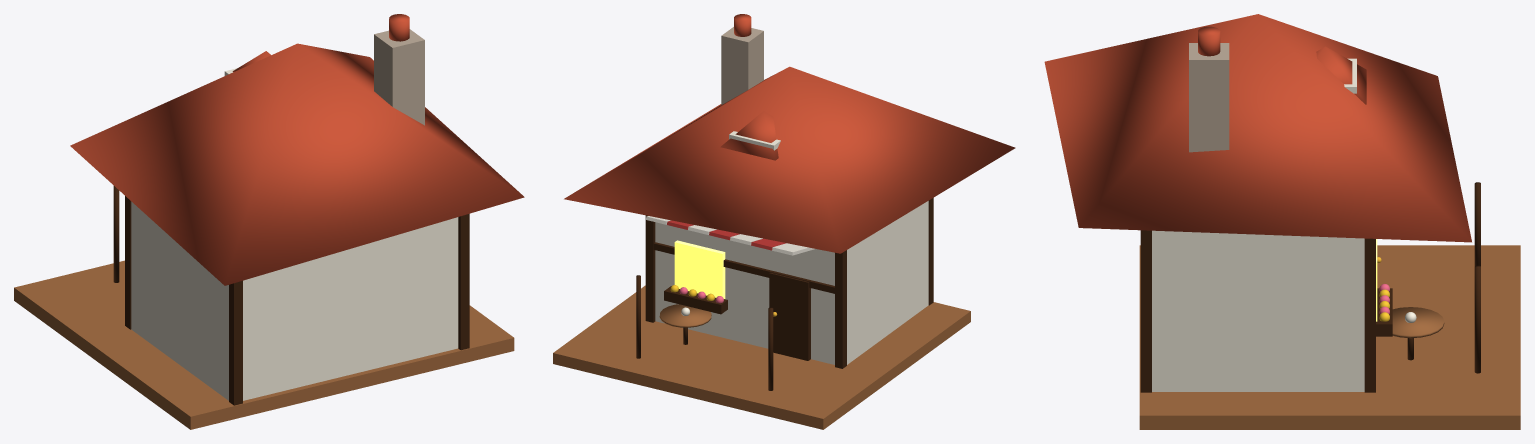
Rendered from cafe.glb.
The picture shows the model from 3 angles, left to right: view 1: azimuth 30°, elevation 25°; view 2: azimuth 150°, elevation 25°; view 3: azimuth 270°, elevation 25°; orthographic projection. The views are drawn at different scales.
Parts seen in each view (by area): view 1: CafeRoof, CafeBody, CafeDeck, ChimneyBody, CornerBeam_B_-3.15, CornerBeam_B_3.15, CornerBeam_-3.15, AwningPost_-2.2, ChimneyPot; view 2: CafeRoof, CafeDeck, CafeBody, FrontDoor, ChimneyBody, CafeWindow, DormerRoof, CornerBeam_-3.15, CornerBeam_3.15, BeamMidFront, BistroTableTop, FlowerBox (+2 smaller); view 3: CafeRoof, CafeBody, CafeDeck, ChimneyBody, CornerBeam_B_3.15, CornerBeam_3.15, BistroTableTop, DormerRoof, AwningPost_2.2, ChimneyPot, AwningPost_-2.2, FlowerBox.
Part boxes in pixels (bbox=[...]): CafeRoof: bbox=[70, 43, 524, 285]; CafeBody: bbox=[131, 201, 458, 400]; CafeDeck: bbox=[14, 260, 514, 429]; ChimneyBody: bbox=[374, 29, 424, 125]; CornerBeam_B_-3.15: bbox=[229, 280, 242, 405]; CornerBeam_B_3.15: bbox=[458, 213, 469, 350]; CornerBeam_-3.15: bbox=[125, 196, 131, 329]; AwningPost_-2.2: bbox=[113, 186, 119, 282]; ChimneyPot: bbox=[389, 14, 409, 41]; CafeRoof: bbox=[564, 66, 1015, 253]; CafeDeck: bbox=[553, 285, 970, 429]; CafeBody: bbox=[655, 201, 928, 364]; FrontDoor: bbox=[769, 272, 810, 360]; ChimneyBody: bbox=[721, 27, 763, 104]; CafeWindow: bbox=[674, 240, 725, 298]; DormerRoof: bbox=[720, 111, 778, 160]; CornerBeam_-3.15: bbox=[835, 250, 846, 368]; CornerBeam_3.15: bbox=[645, 215, 655, 322]; BeamMidFront: bbox=[653, 242, 834, 293]; BistroTableTop: bbox=[659, 304, 711, 327]; FlowerBox: bbox=[664, 286, 727, 314]; CafeRoof: bbox=[1044, 14, 1471, 242]; CafeBody: bbox=[1152, 230, 1364, 391]; CafeDeck: bbox=[1139, 245, 1520, 429]; ChimneyBody: bbox=[1189, 43, 1229, 152]; CornerBeam_B_3.15: bbox=[1140, 230, 1151, 392]; CornerBeam_3.15: bbox=[1364, 238, 1375, 392]; BistroTableTop: bbox=[1392, 307, 1444, 338]; DormerRoof: bbox=[1316, 46, 1366, 104]; AwningPost_2.2: bbox=[1474, 265, 1480, 373]; ChimneyPot: bbox=[1198, 26, 1220, 56]; AwningPost_-2.2: bbox=[1474, 182, 1480, 266]; FlowerBox: bbox=[1376, 288, 1392, 336].
Size of the model in its own units: 9.55 by 8.74 by 10.62.
